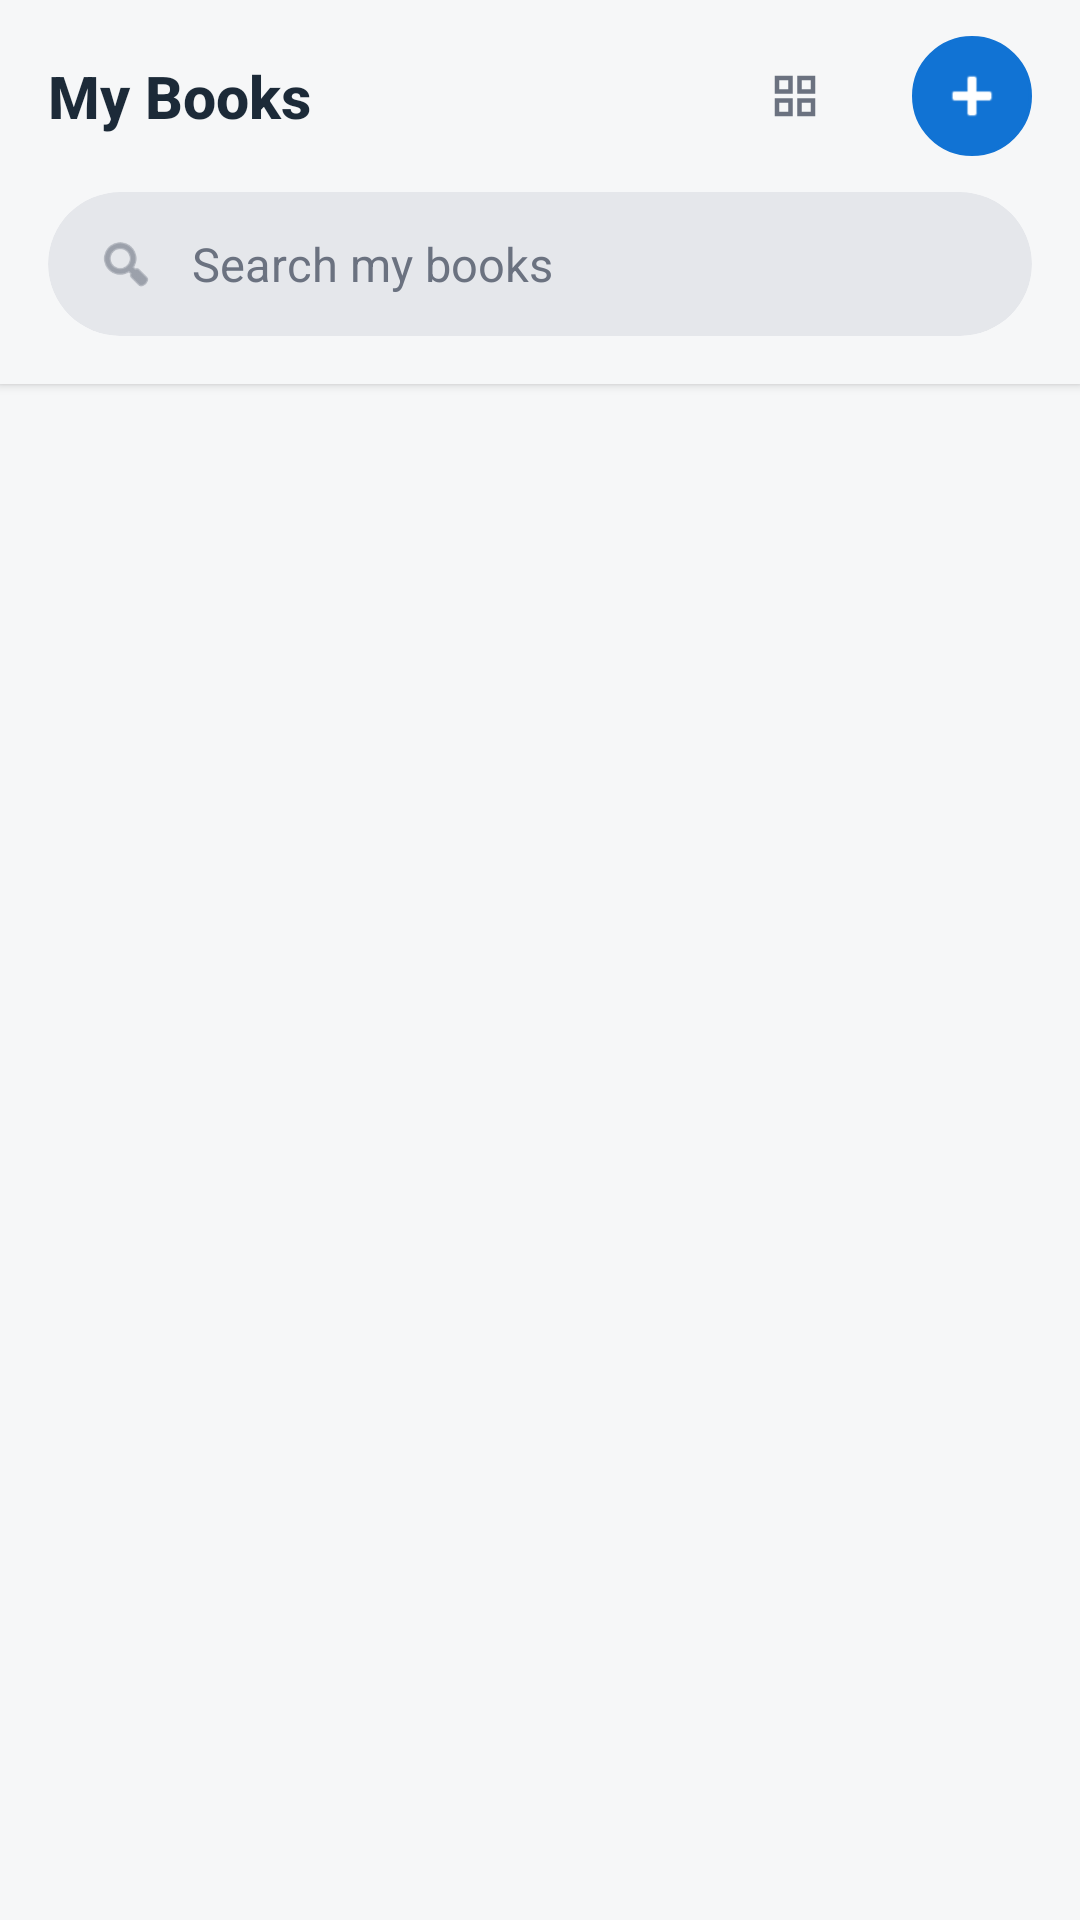

Screen size 1080w x 1920h. Icon name, then its box in pixels as rect(x1, y1, x2, y2):
Add Book: rect(912, 36, 1032, 156)
Toggle View Mode: rect(774, 75, 816, 117)
